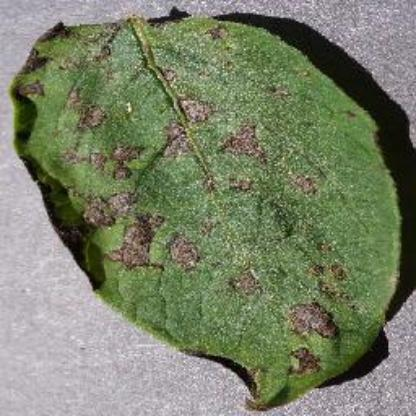Early-Blight: (15, 13, 408, 408)
